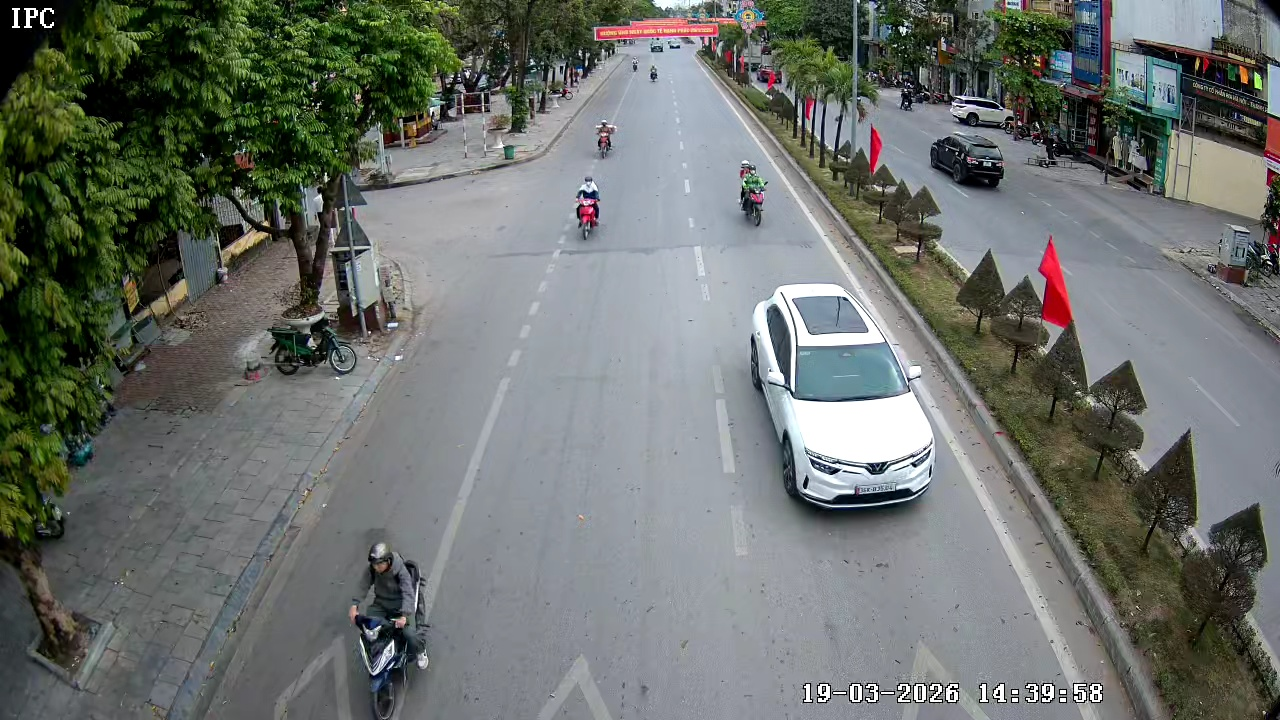car: (747, 284, 937, 509), (930, 128, 1005, 188)
motorbike: (347, 541, 433, 718), (262, 312, 363, 377), (734, 157, 770, 227), (573, 173, 605, 241), (595, 114, 618, 157), (648, 65, 659, 80)
